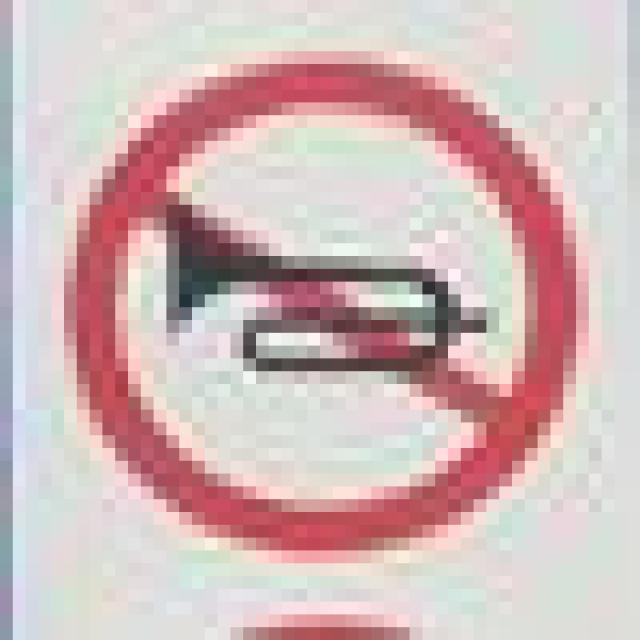HORN_PROHIBITED: (51, 39, 576, 538)
